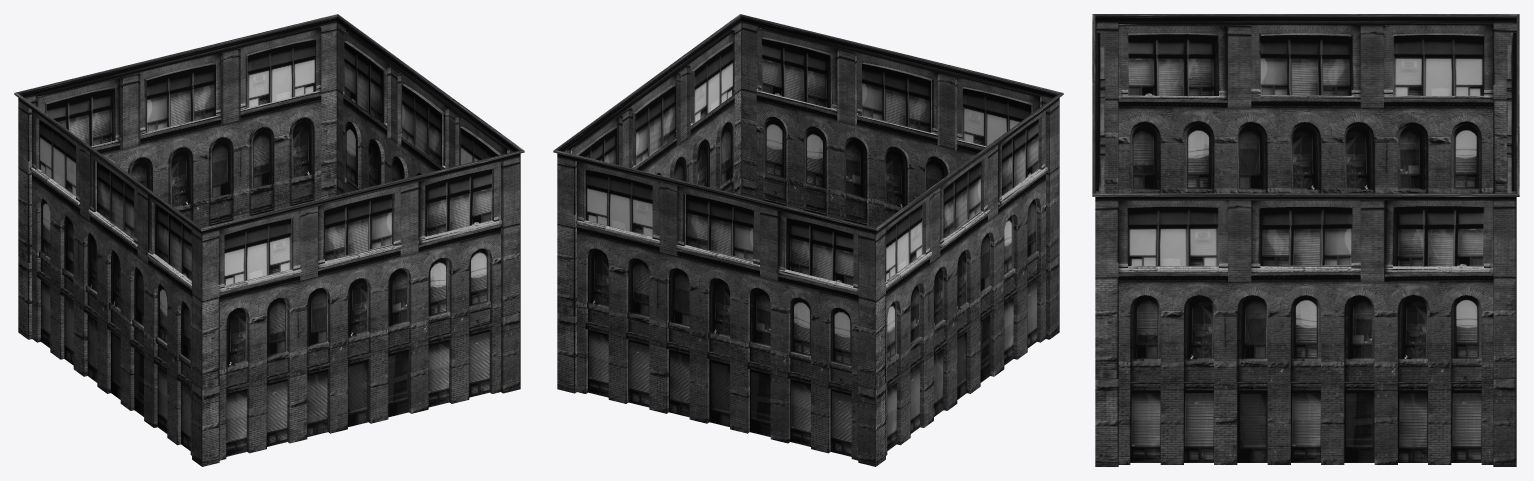
File: skidrow_building_3.fbx
The picture shows the model from 3 angles, left to right: view 1: azimuth 30°, elevation 25°; view 2: azimuth 150°, elevation 25°; view 3: azimuth 270°, elevation 25°; orthographic projection. The views are drawn at different scales.
Parts seen in each view (by area): view 1: skidrow_building_3; view 2: skidrow_building_3; view 3: skidrow_building_3.
Boxes of the visible parts, box(x1,y1,x2,y2) form: skidrow_building_3: box(14, 14, 524, 466); skidrow_building_3: box(553, 14, 1063, 466); skidrow_building_3: box(1092, 14, 1519, 466).
Size of the model in its own units: 996 by 703 by 996.
